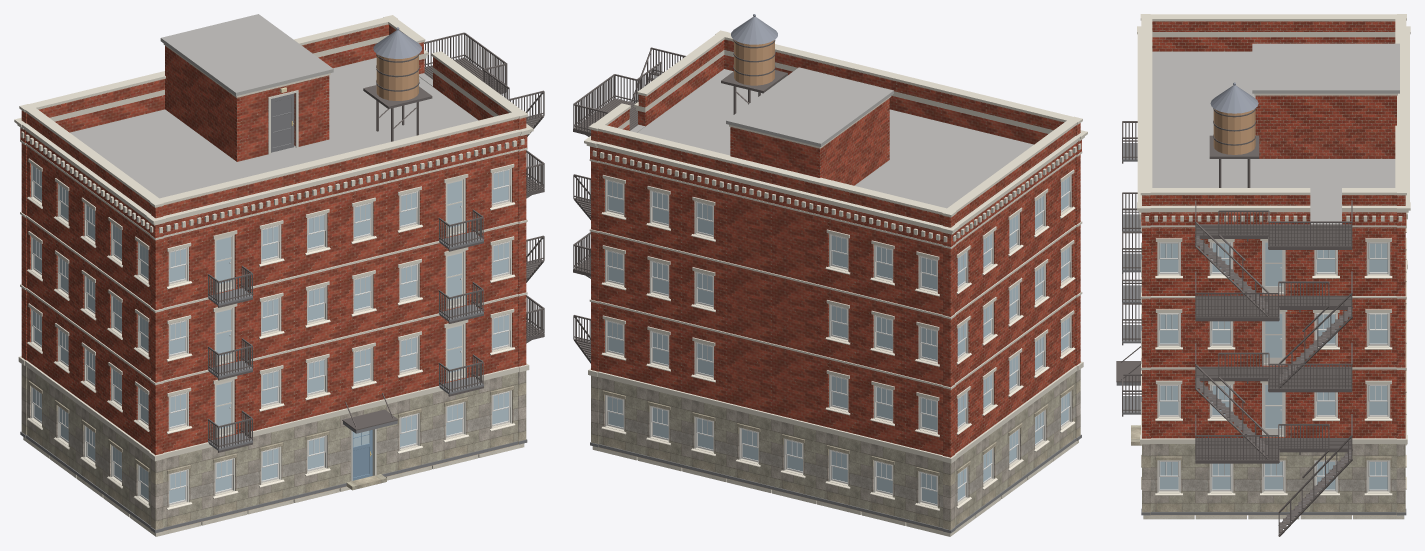
Rendered from building_assembled.glb.
The picture shows the model from 3 angles, left to right: view 1: azimuth 30°, elevation 25°; view 2: azimuth 150°, elevation 25°; view 3: azimuth 270°, elevation 25°; orthographic projection. The views are drawn at different scales.
Parts seen in each view (by area): view 1: building_brick, building_trim, building_stone, building_roof, building_glass, building_iron, building_frame, building_sash, building_dark, building_plaster, building_wood, building_tower_roof (+1 smaller); view 2: building_brick, building_trim, building_stone, building_roof, building_glass, building_sash, building_iron, building_frame, building_plaster, building_dark, building_wood, building_tower_roof; view 3: building_brick, building_iron, building_roof, building_trim, building_stone, building_glass, building_frame, building_sash, building_dark, building_wood, building_plaster, building_tower_roof.
Boxes of the visible parts, bbox=[...] form: building_brick: bbox=[20, 24, 527, 455]; building_trim: bbox=[14, 15, 533, 510]; building_stone: bbox=[21, 364, 526, 529]; building_roof: bbox=[70, 14, 478, 198]; building_glass: bbox=[33, 166, 508, 503]; building_iron: bbox=[208, 32, 544, 452]; building_frame: bbox=[31, 90, 511, 506]; building_sash: bbox=[32, 165, 510, 505]; building_dark: bbox=[20, 93, 534, 533]; building_plaster: bbox=[23, 437, 524, 536]; building_wood: bbox=[376, 54, 418, 100]; building_tower_roof: bbox=[373, 27, 421, 58]; building_brick: bbox=[590, 39, 1081, 457]; building_trim: bbox=[584, 30, 1087, 510]; building_stone: bbox=[591, 369, 1080, 529]; building_roof: bbox=[630, 67, 1033, 208]; building_glass: bbox=[607, 177, 1069, 504]; building_sash: bbox=[606, 176, 1070, 506]; building_iron: bbox=[573, 39, 787, 363]; building_frame: bbox=[605, 175, 1071, 507]; building_plaster: bbox=[592, 440, 1078, 536]; building_dark: bbox=[582, 199, 1081, 533]; building_wood: bbox=[734, 40, 774, 85]; building_tower_roof: bbox=[731, 14, 777, 44]; building_brick: bbox=[1141, 21, 1406, 438]; building_iron: bbox=[1116, 108, 1352, 536]; building_roof: bbox=[1152, 43, 1399, 224]; building_trim: bbox=[1137, 14, 1410, 495]; building_stone: bbox=[1131, 425, 1405, 514]; building_glass: bbox=[1160, 242, 1387, 489]; building_frame: bbox=[1157, 95, 1390, 492]; building_sash: bbox=[1159, 242, 1388, 491]; building_dark: bbox=[1116, 143, 1406, 528]; building_wood: bbox=[1213, 109, 1255, 154]; building_plaster: bbox=[1143, 515, 1404, 519]; building_tower_roof: bbox=[1210, 82, 1258, 113].
Bounding box in the file's own units: 18.23 × 16.78 × 11.25.
Materials: 18 (3 with a texture image).
